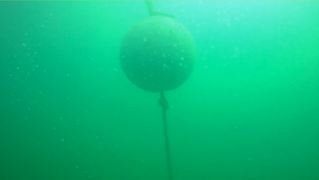buoy: (119, 15, 197, 93)
